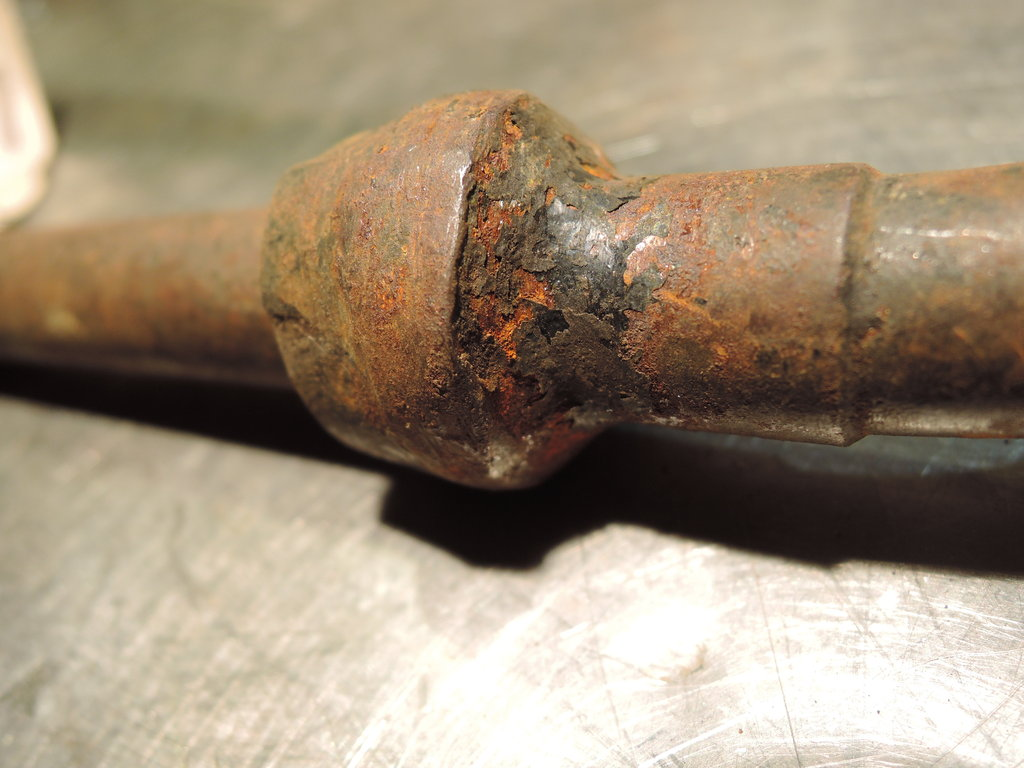Severe: (263, 86, 732, 480)
